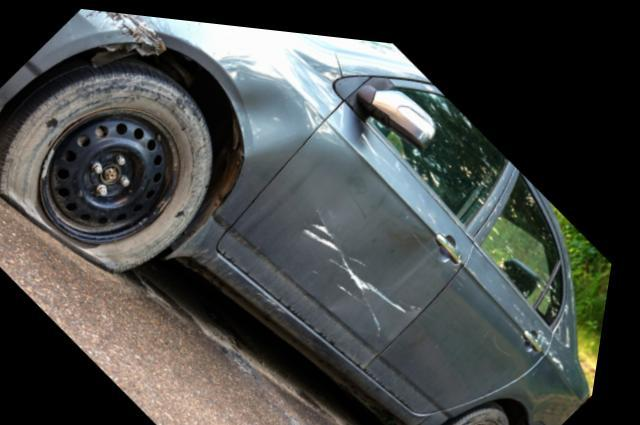dent: (232, 77, 302, 144)
scratch: (309, 200, 416, 322)
tire flat: (0, 40, 218, 264), (437, 388, 521, 425)
